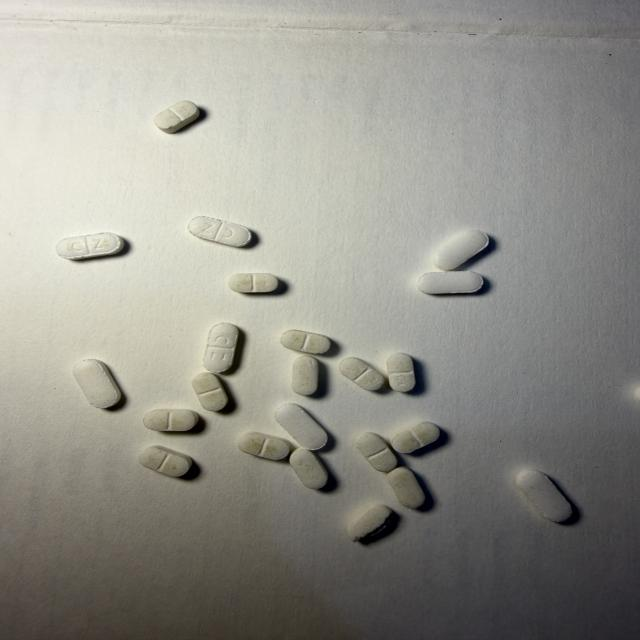pill: (516, 470, 572, 522), (73, 360, 121, 408), (276, 404, 327, 449), (434, 230, 488, 270), (188, 217, 251, 246), (56, 233, 124, 259), (203, 323, 238, 373), (347, 504, 393, 541), (356, 432, 397, 472), (139, 446, 192, 476), (290, 448, 328, 489), (388, 467, 425, 508), (392, 422, 440, 453), (417, 272, 483, 294), (340, 357, 384, 390), (155, 101, 199, 133), (192, 372, 228, 411), (238, 432, 290, 459), (144, 410, 198, 431), (281, 330, 330, 353), (387, 353, 415, 392), (292, 356, 318, 395), (228, 274, 278, 293)
